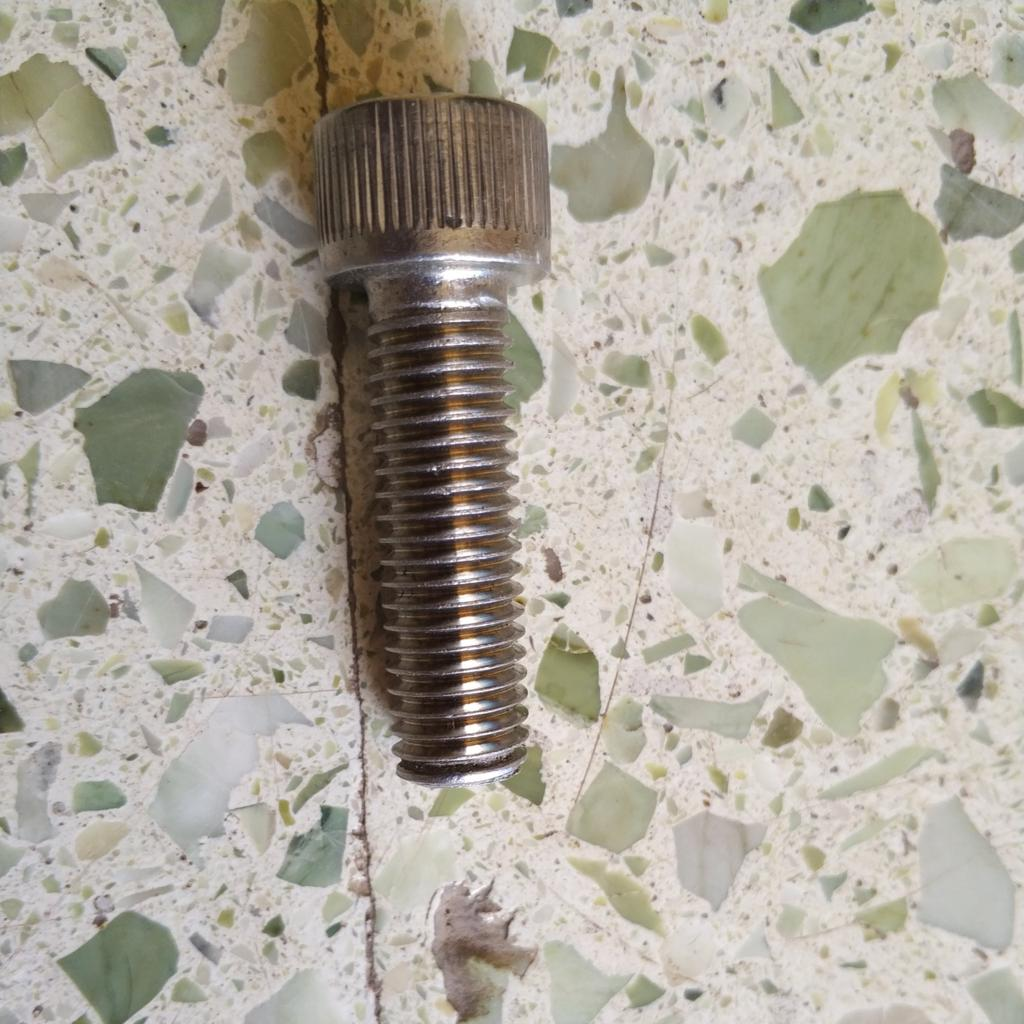screwtype1silver: (287, 85, 612, 799)
